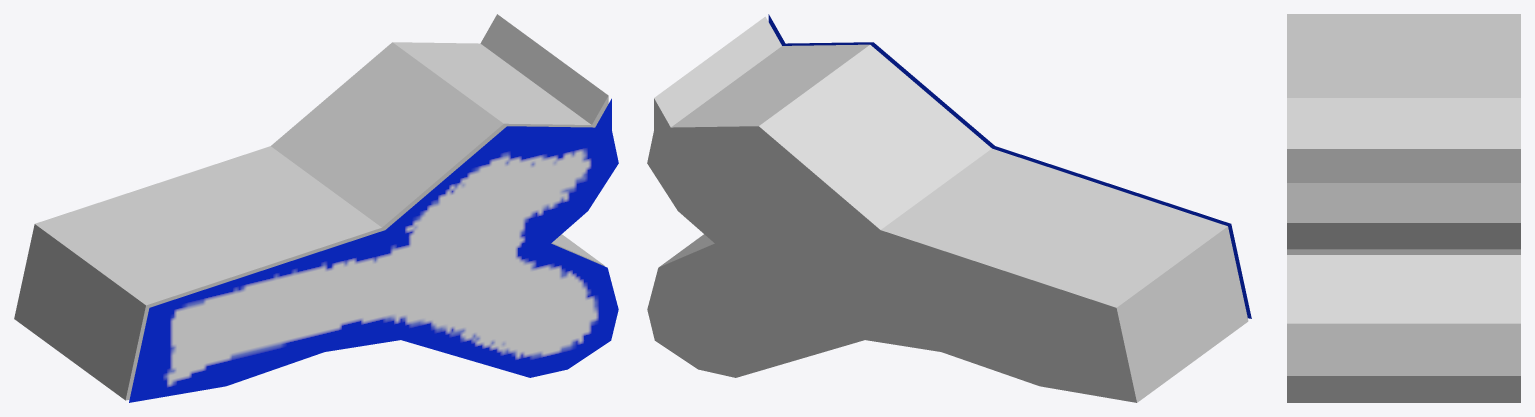
The picture shows the model from 3 angles, left to right: view 1: azimuth 30°, elevation 25°; view 2: azimuth 150°, elevation 25°; view 3: azimuth 270°, elevation 25°; orthographic projection. The views are drawn at different scales.
Visible parts, largest first — view 1: In_3_0, In_3_1; view 2: In_3_0, In_3_1; view 3: In_3_0.
Part boxes in pixels (x1,y1,x2,y2): In_3_0: (14, 14, 608, 400); In_3_1: (129, 98, 618, 402); In_3_0: (647, 16, 1248, 402); In_3_1: (768, 14, 1251, 318); In_3_0: (1287, 14, 1520, 402).
Size of the model in its own units: 1.27 by 0.6456 by 0.515.
2 materials, 1 textured.
